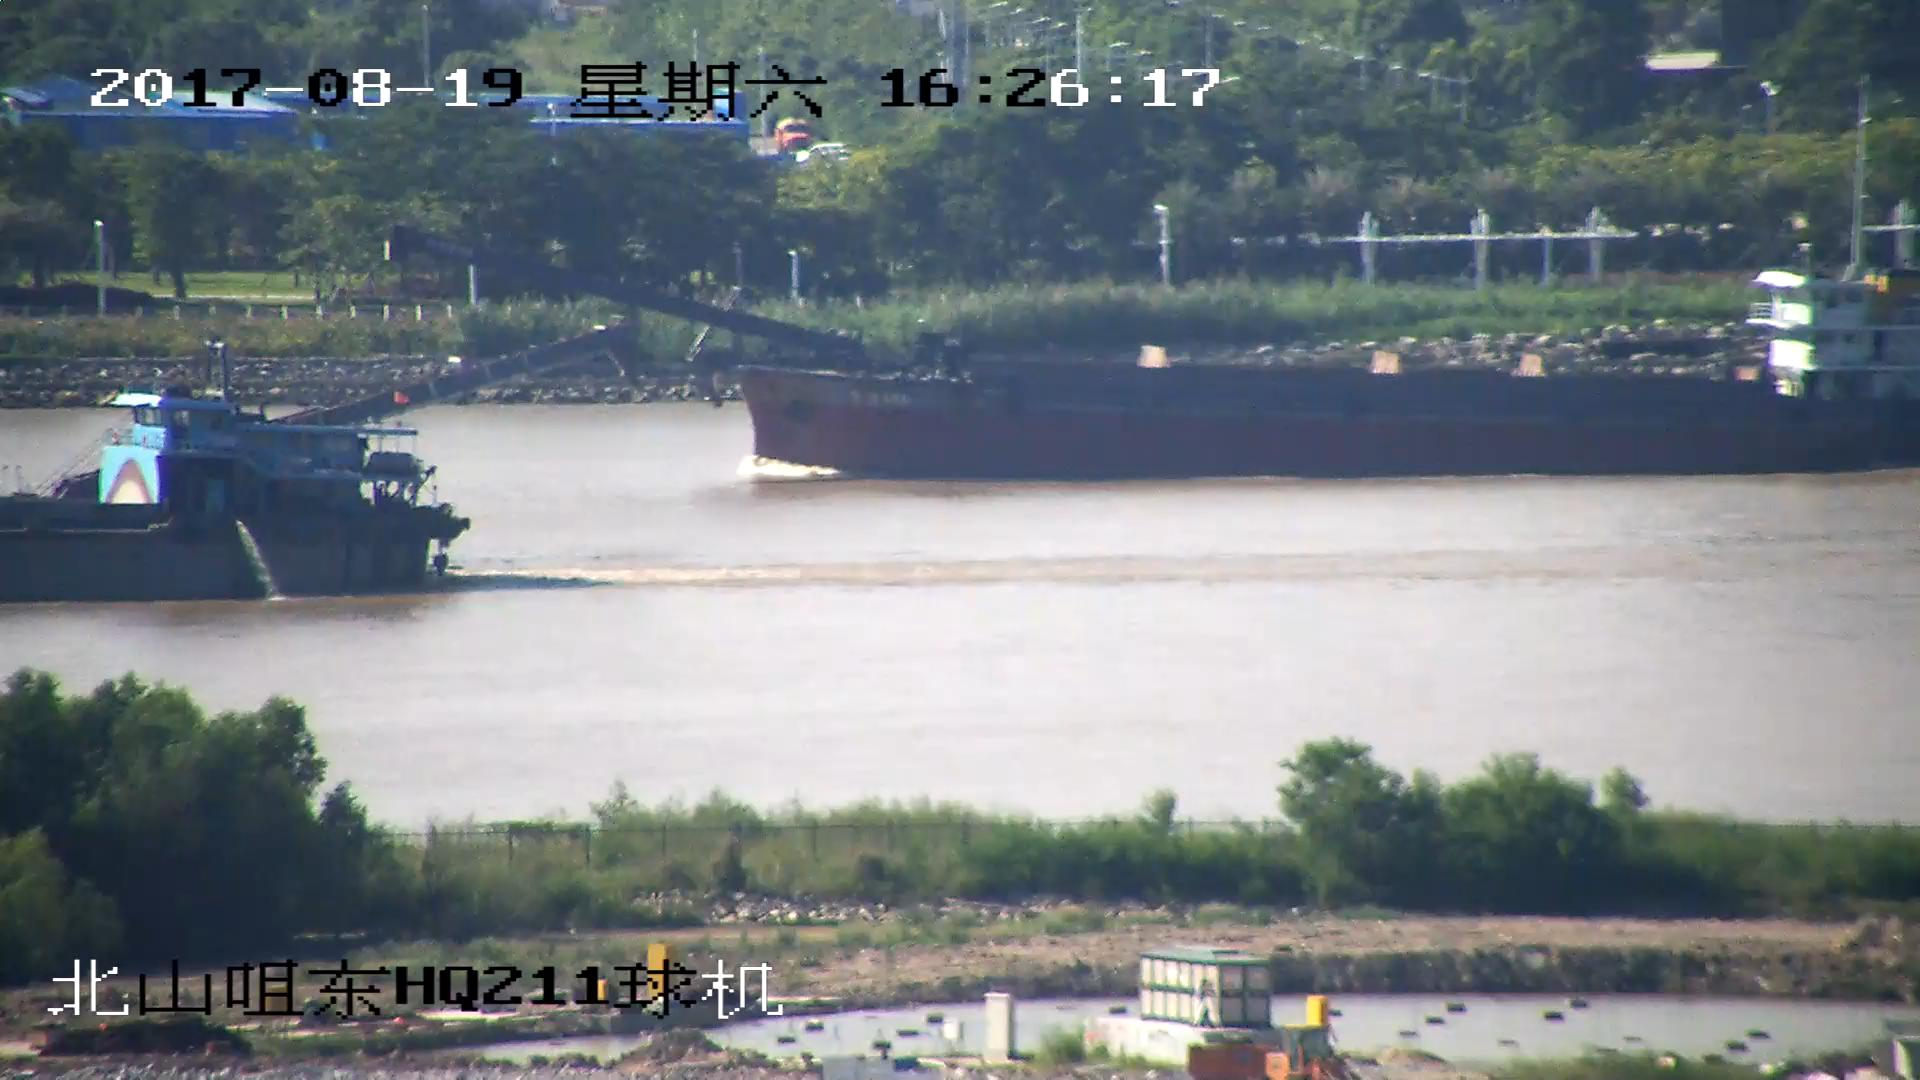bulk cargo carrier: (395, 228, 1919, 477), (1, 320, 620, 597)
